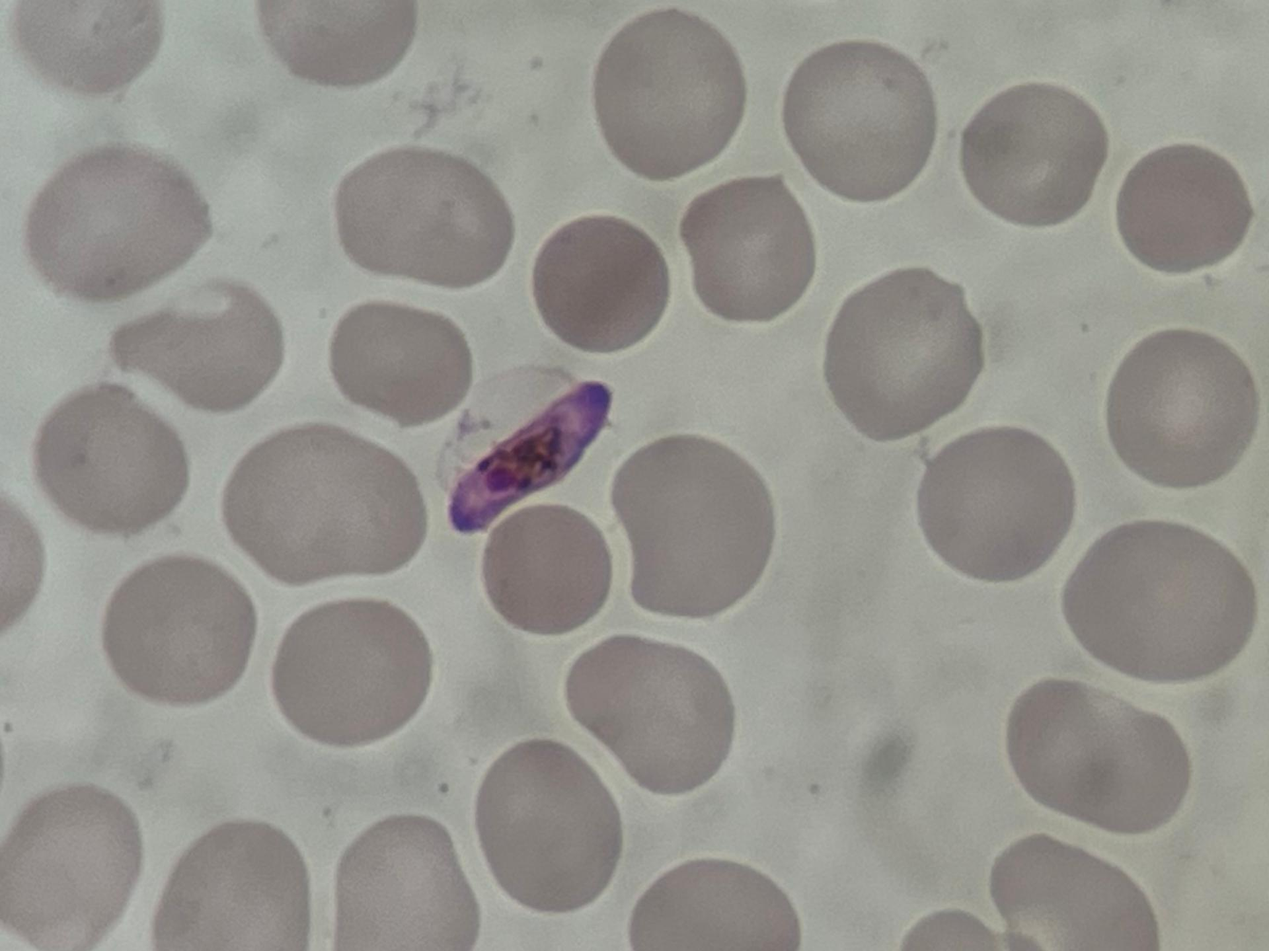Infected: (434, 358, 614, 542)
Uninfected: (1053, 512, 1251, 689), (220, 419, 426, 583), (20, 146, 219, 298), (612, 433, 774, 618), (1005, 675, 1182, 844), (822, 265, 984, 442), (564, 631, 737, 791), (474, 745, 627, 915), (912, 430, 1081, 580), (595, 5, 739, 180), (335, 146, 511, 289), (93, 560, 263, 703), (787, 38, 931, 205), (0, 781, 141, 951), (1106, 336, 1259, 492), (275, 602, 433, 752), (40, 380, 182, 536), (150, 818, 310, 951), (108, 287, 291, 403), (326, 818, 485, 951), (963, 78, 1103, 227), (681, 177, 817, 327), (531, 219, 673, 355), (1117, 142, 1256, 279), (326, 292, 469, 424), (485, 501, 607, 633)
